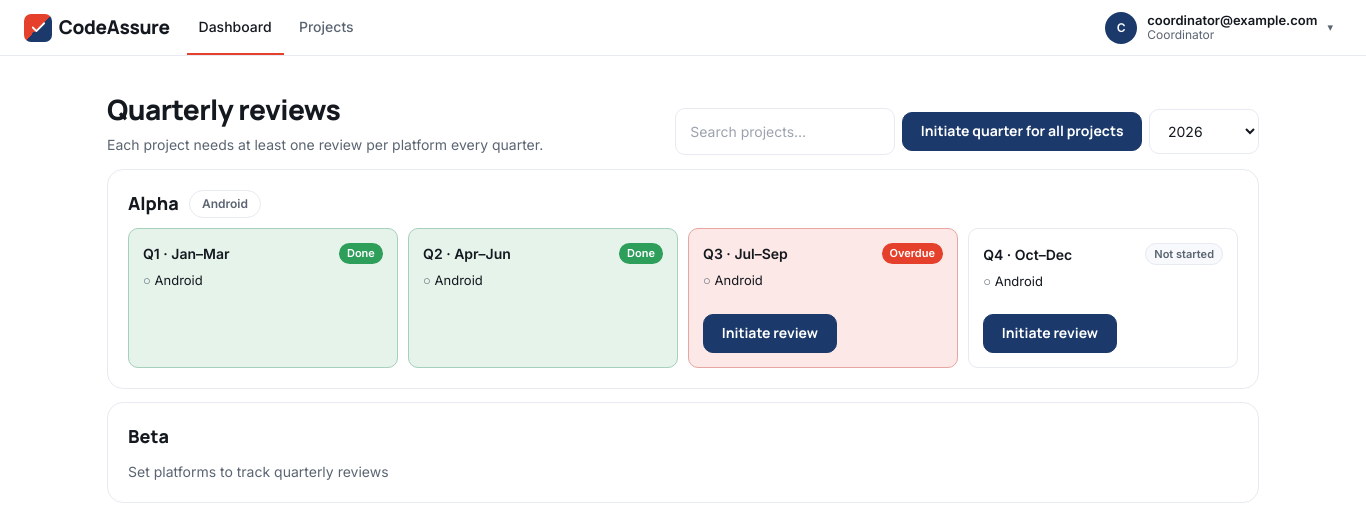
Scenario: switching year hides the previous year's cards until the new year loads
Expected: the element "Alpha" is shown, [107,169,1259,389]
Select "2025" in the dropdown named "Year" at (1204, 132), box [1149,109,1259,154]
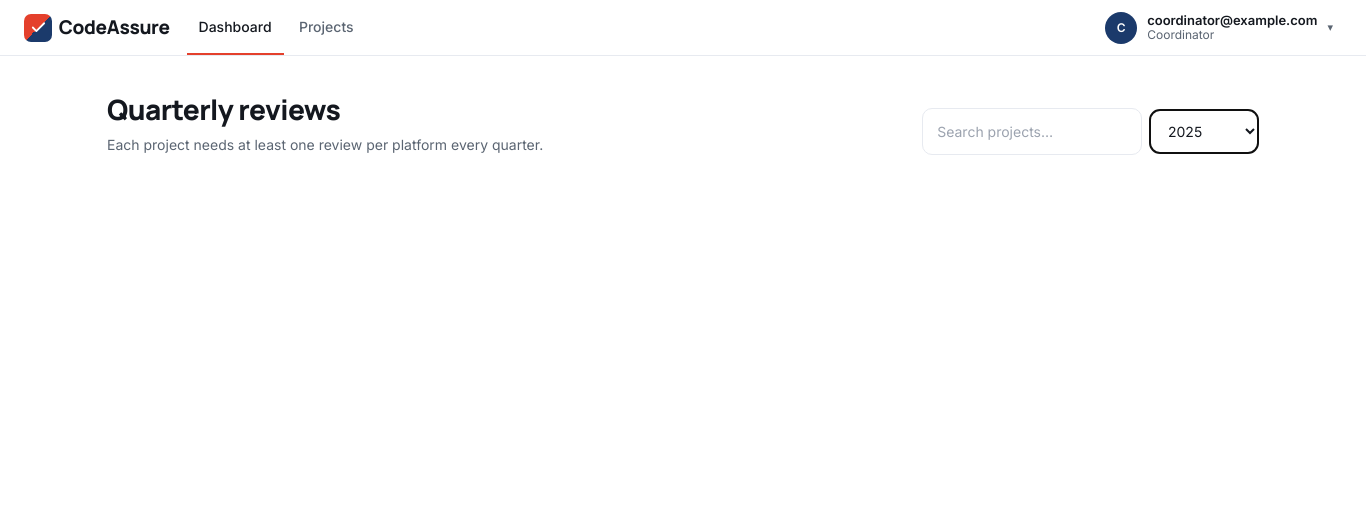
Expected: the text "Alpha" is gone
Expected: the button "Initiate review" is gone
